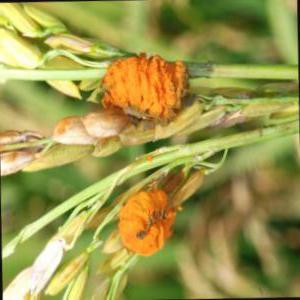False Smut: (108, 52, 187, 118), (117, 186, 180, 261)
